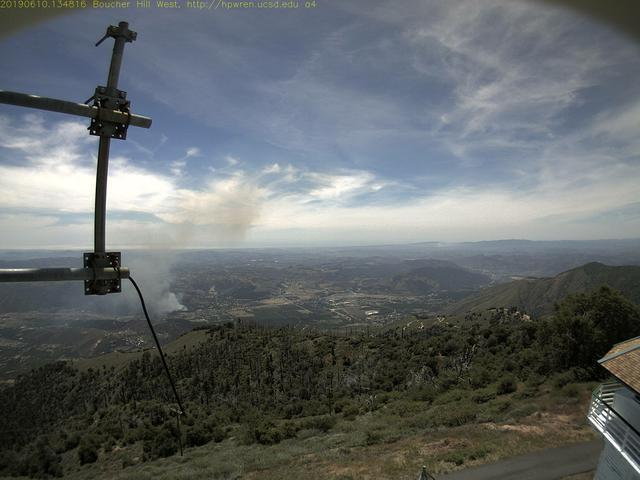Smoke: (126, 197, 251, 313)
